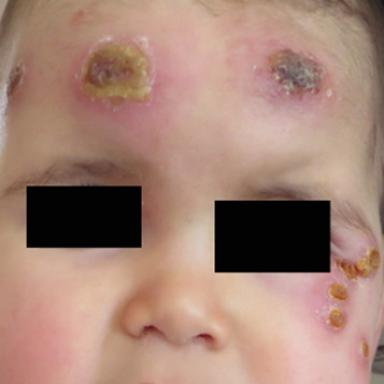Leishmanios: (83, 37, 157, 104), (264, 49, 325, 98), (336, 247, 380, 279), (327, 307, 345, 330), (328, 283, 348, 300), (359, 339, 371, 363)
